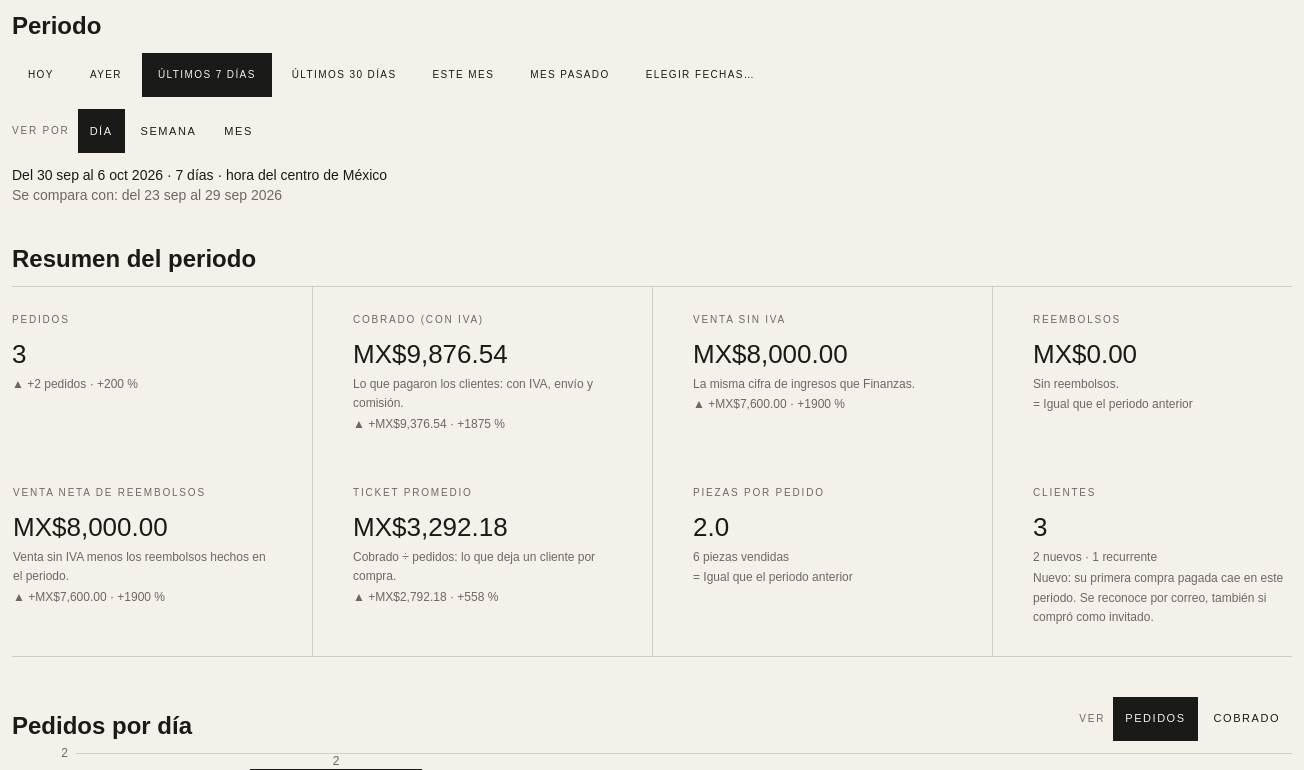
Test: UX-AN-7 · rango a mano: se valida antes de mandar; el `400` va bajo su campo › hasta > hoy ⇒ su texto y NINGUNA petición
expect the element with test id "sales-period-label" is shown: met, box [12, 167, 387, 203]
Click the button "Elegir fechas…" at point(700, 75), box [630, 53, 771, 97]
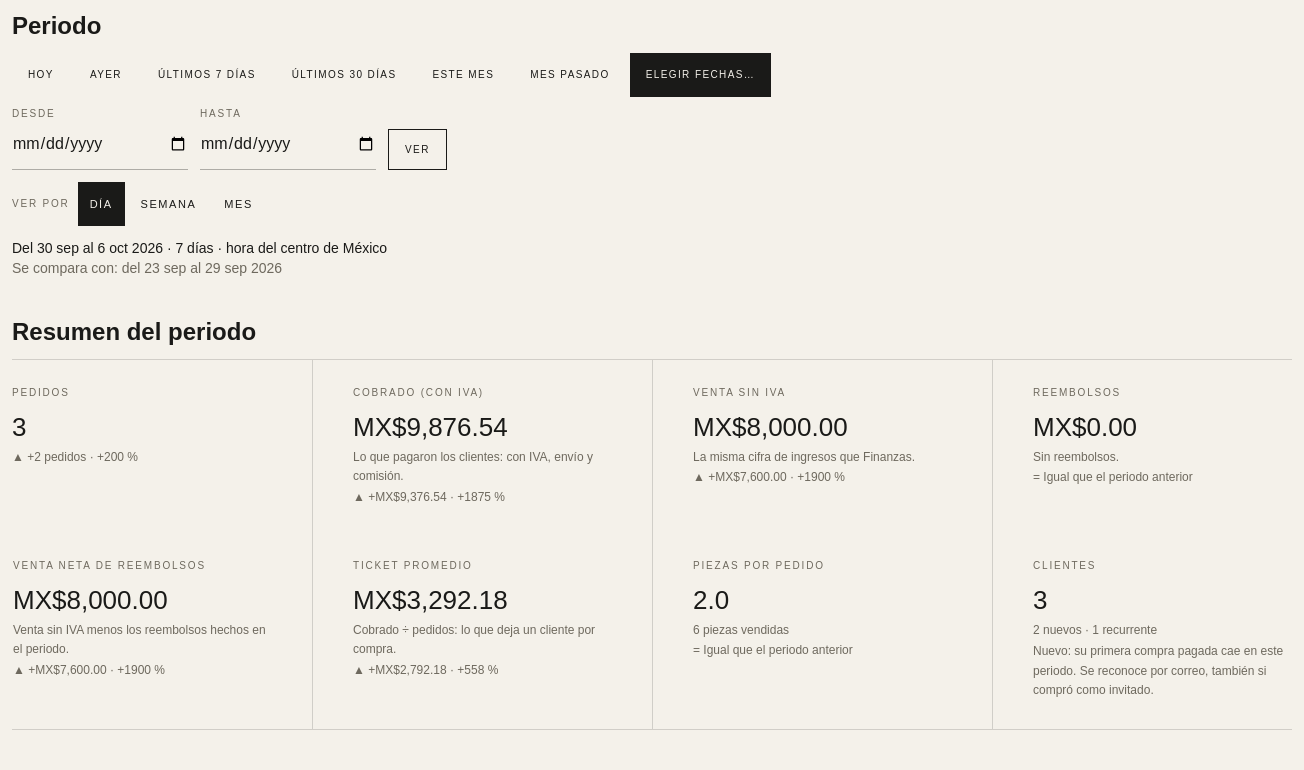
Type "2026-09-01" into the date field labelled "Desde" at point(100, 144), box [12, 131, 188, 157]
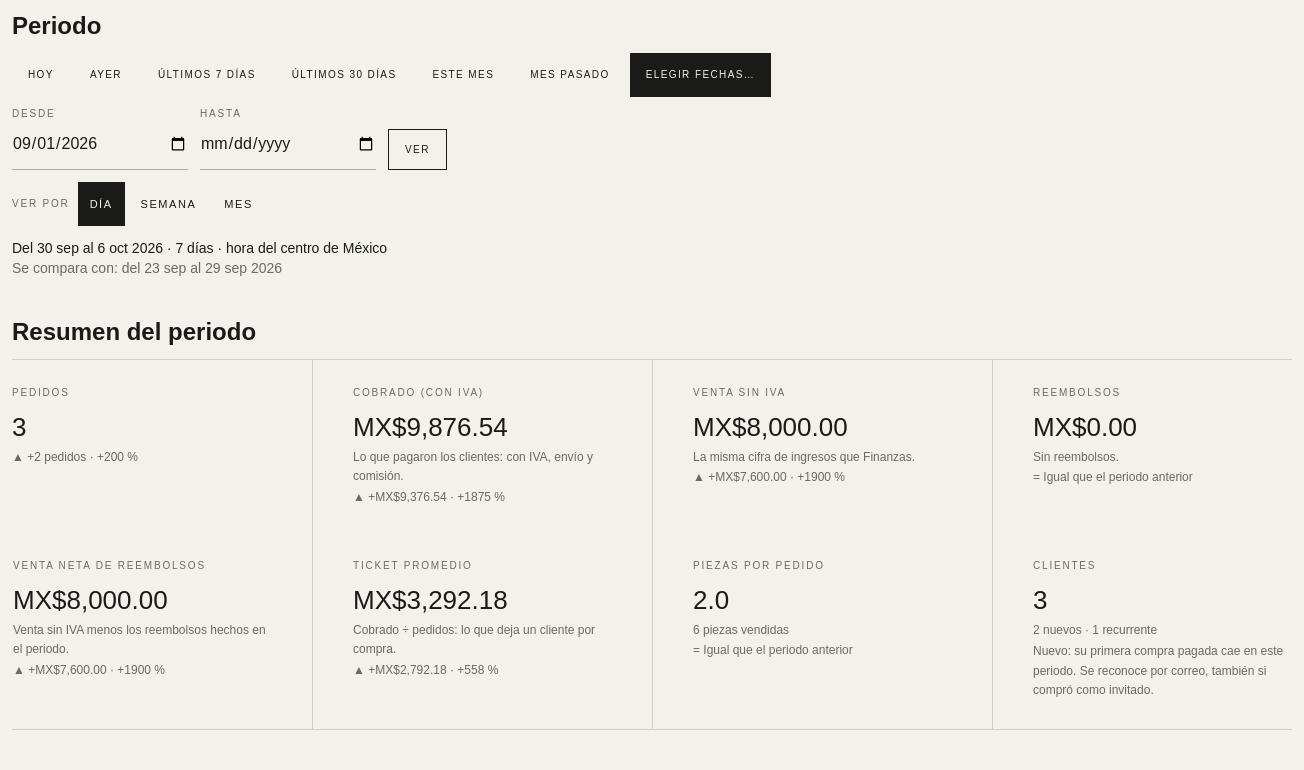
Type "2999-01-01" into the date field labelled "Hasta" at point(288, 144), box [200, 131, 376, 157]
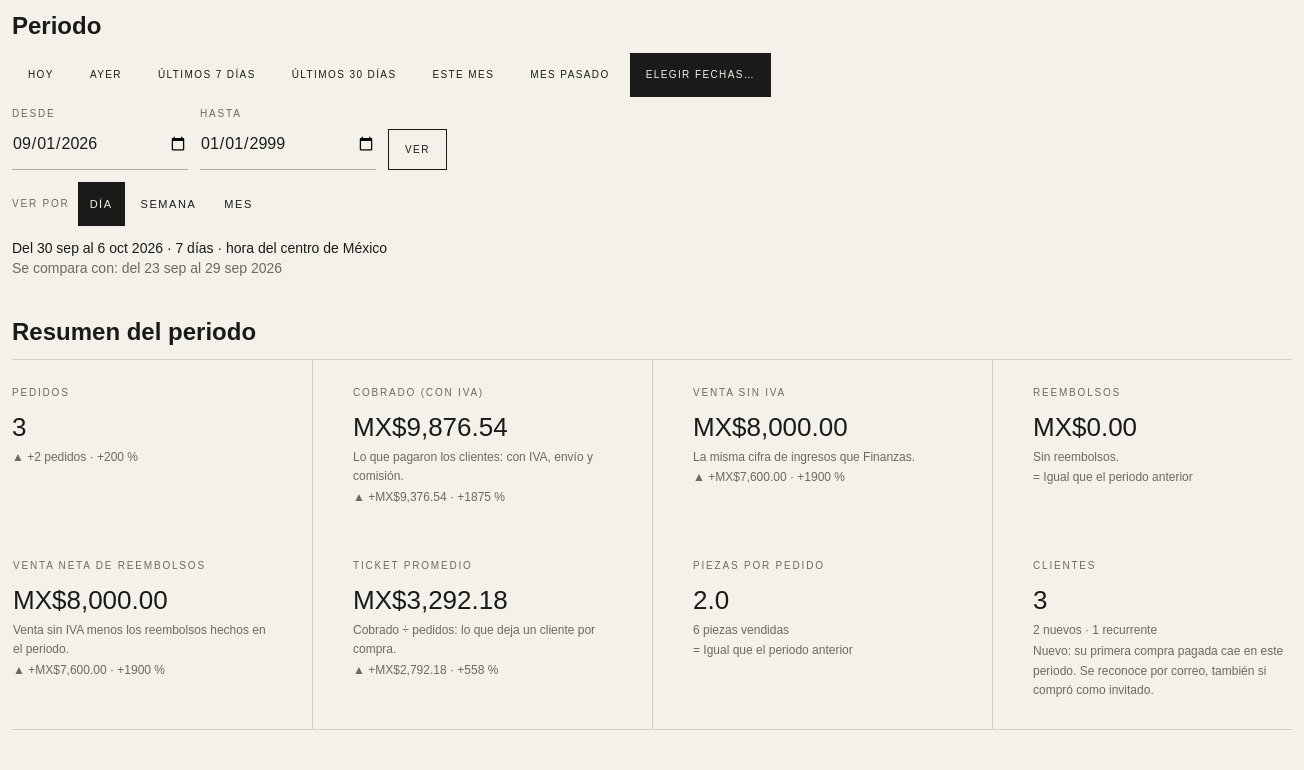
Click the button "Ver" at point(417, 149), box [388, 129, 447, 170]
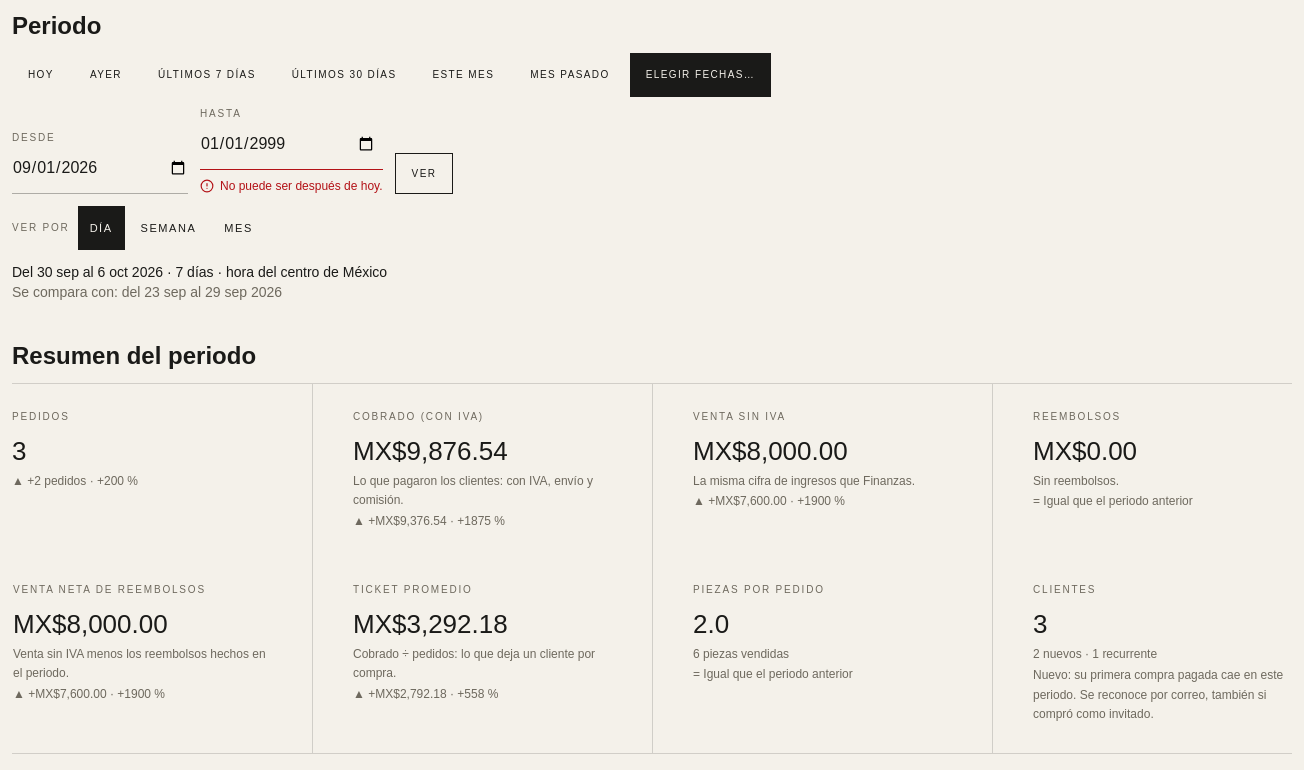
expect the text "No puede ser después de hoy." is shown: met, box [200, 178, 383, 194]
